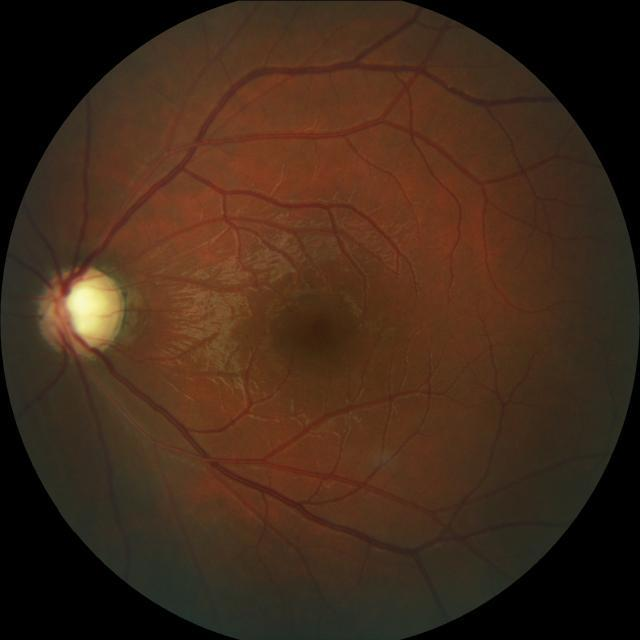OC: (44, 274, 118, 346)
OD: (39, 264, 124, 355)
